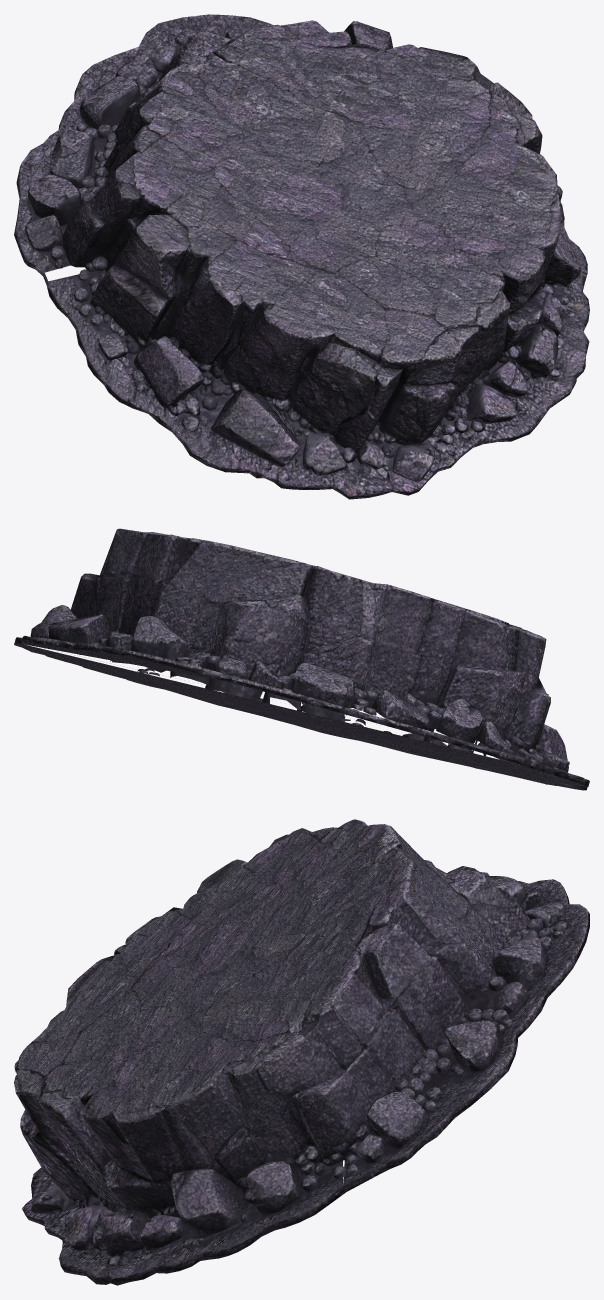
File: 05-violet-schist-base.glb
3 renders of one model, top to bottom at view 1: azimuth 30°, elevation 25°; view 2: azimuth 150°, elevation 25°; view 3: azimuth 270°, elevation 25°, orthographic. The views are drawn at different scales.
Parts seen in each view (by area): view 1: cd01dc15_2808_4ed2_b4f8_35af9306795b; view 2: cd01dc15_2808_4ed2_b4f8_35af9306795b; view 3: cd01dc15_2808_4ed2_b4f8_35af9306795b.
Boxes of the visible parts, box(x1,y1,x2,y2) form: cd01dc15_2808_4ed2_b4f8_35af9306795b: box(14, 14, 589, 499); cd01dc15_2808_4ed2_b4f8_35af9306795b: box(14, 528, 589, 790); cd01dc15_2808_4ed2_b4f8_35af9306795b: box(14, 819, 589, 1285).
Size of the model in its own units: 0.9995 by 0.6333 by 0.9106.
Materials: 1 (1 with a texture image).
